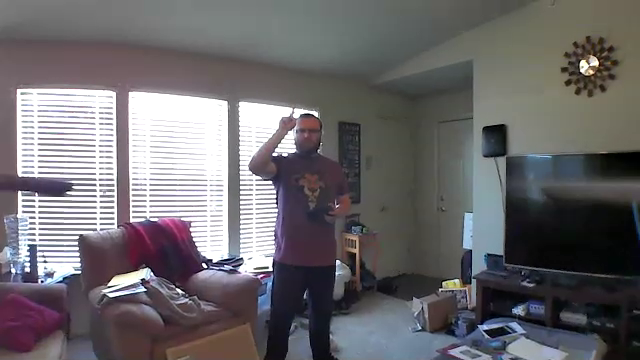up: (276, 101, 302, 137)
